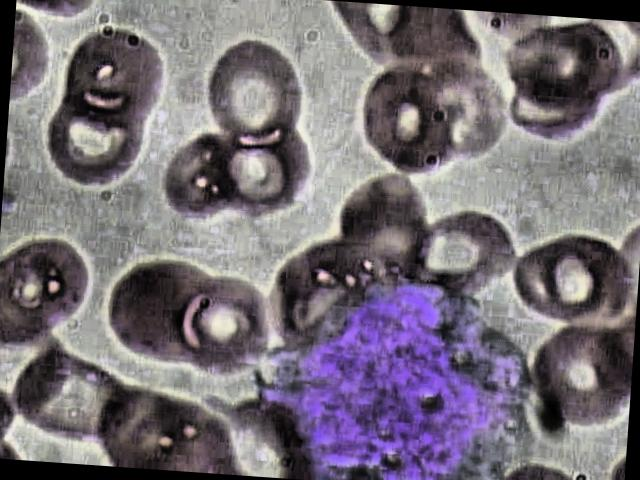RBC: (5, 344, 141, 456), (354, 60, 466, 184), (524, 312, 636, 435), (500, 229, 634, 330), (496, 20, 630, 115), (207, 118, 320, 228), (54, 24, 166, 134), (200, 38, 312, 148), (0, 231, 97, 352), (166, 278, 274, 384), (44, 90, 146, 195), (412, 204, 520, 302), (157, 128, 248, 223)
WBC: (245, 259, 540, 480)
